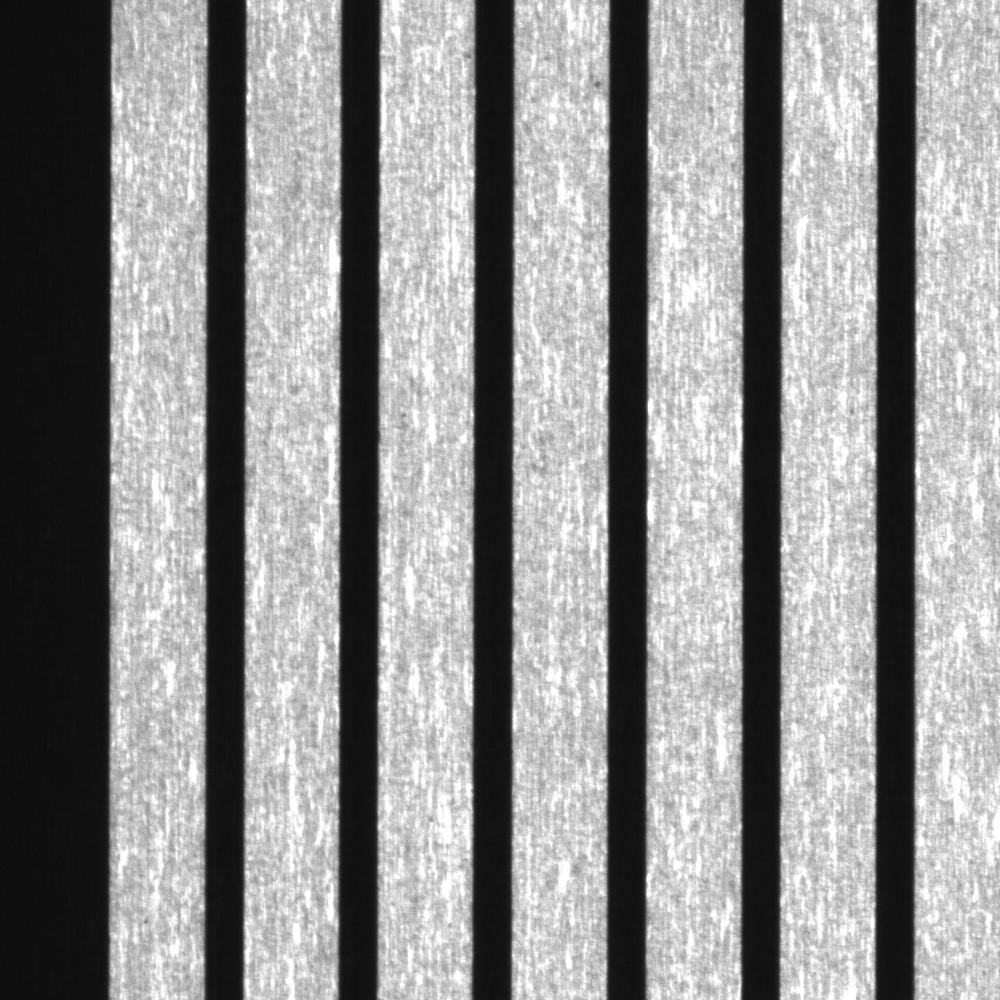Etching: (580, 69, 609, 96)
